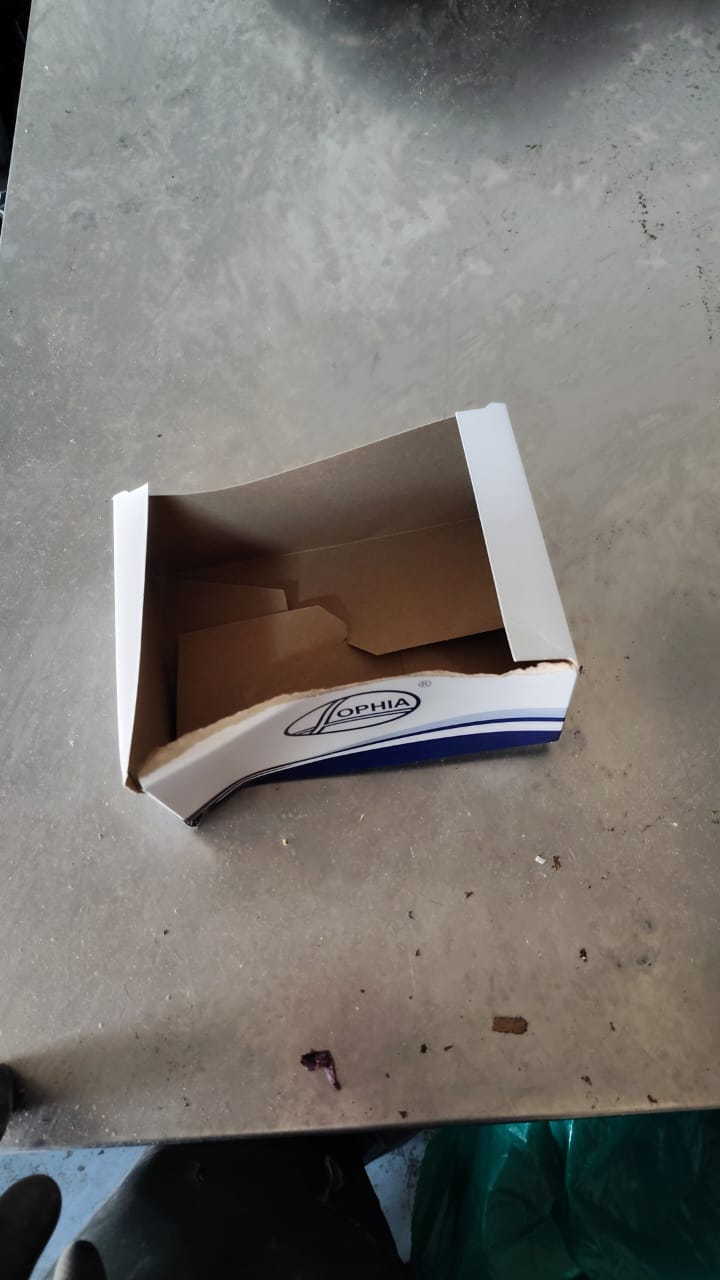Carton: (111, 402, 586, 834)
